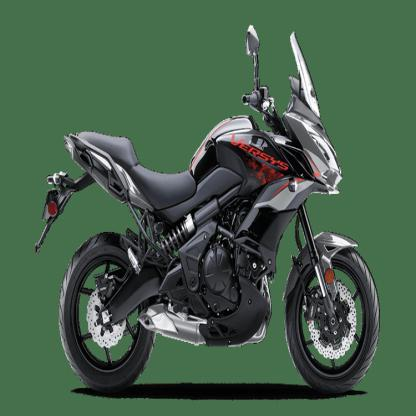Motorcycle: (32, 19, 383, 394)
